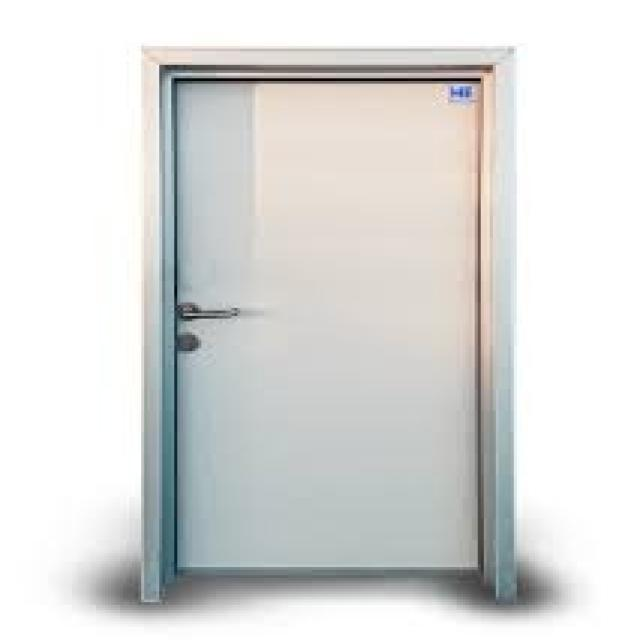door: (165, 66, 490, 585)
